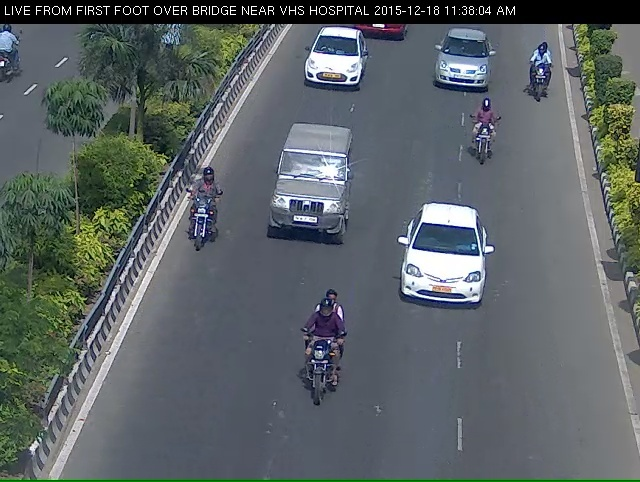Car: (391, 212, 501, 333), (265, 138, 355, 281), (293, 28, 374, 113), (428, 35, 501, 102), (351, 19, 409, 43)
Person: (272, 321, 349, 453), (170, 182, 222, 269), (468, 110, 511, 178), (522, 44, 556, 125)
